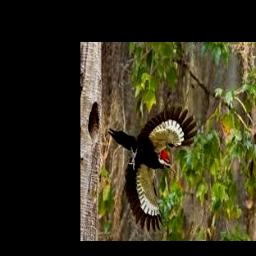Woodpecker: (108, 104, 200, 230)
